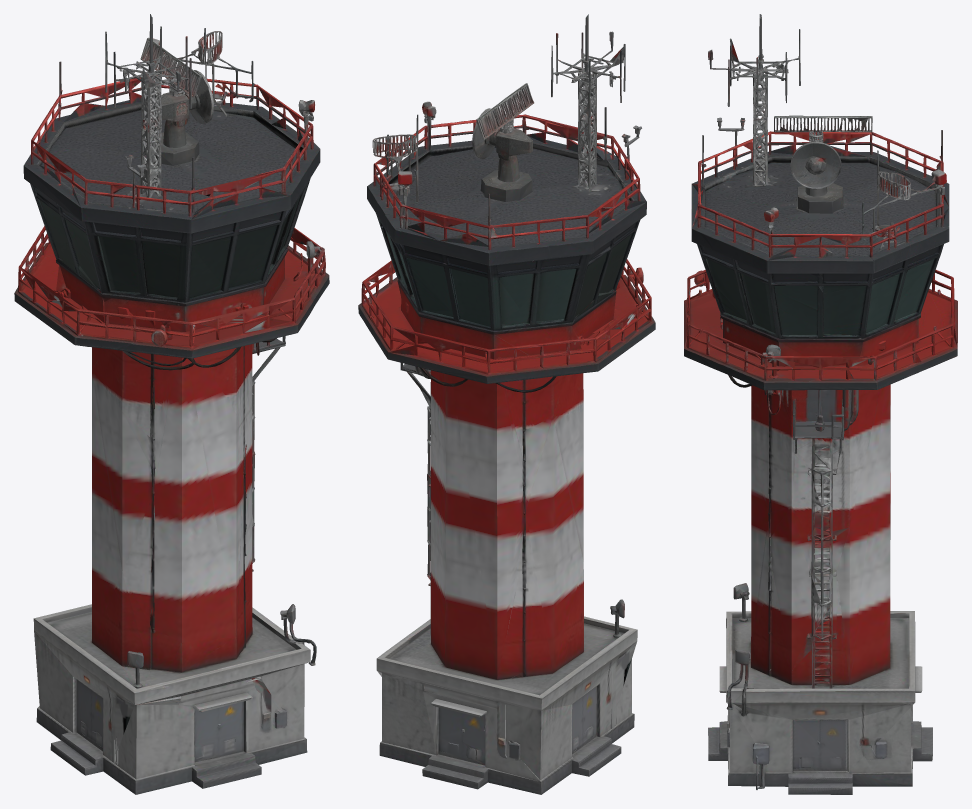
File: control-tower.glb
3 views of the same model, side by side, from view 1: azimuth 30°, elevation 25°; view 2: azimuth 150°, elevation 25°; view 3: azimuth 270°, elevation 25° (orthographic). The views are drawn at different scales.
Visible parts, largest first — view 1: output_unwrapped; view 2: output_unwrapped; view 3: output_unwrapped.
Part boxes in pixels (x1,y1,x2,y2): output_unwrapped: (14, 14, 329, 794); output_unwrapped: (358, 14, 655, 794); output_unwrapped: (684, 14, 957, 794).
Bounding box in the file's own units: 11.93 × 34 × 11.9.
Materials: 1 (1 with a texture image).
